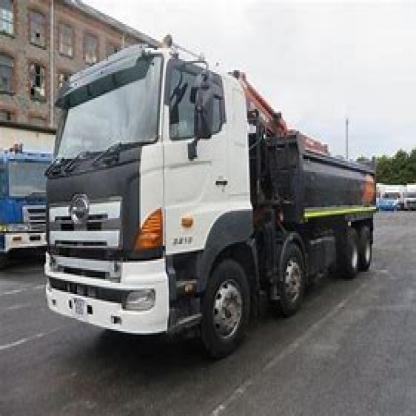dump_truck: (37, 38, 385, 348)
